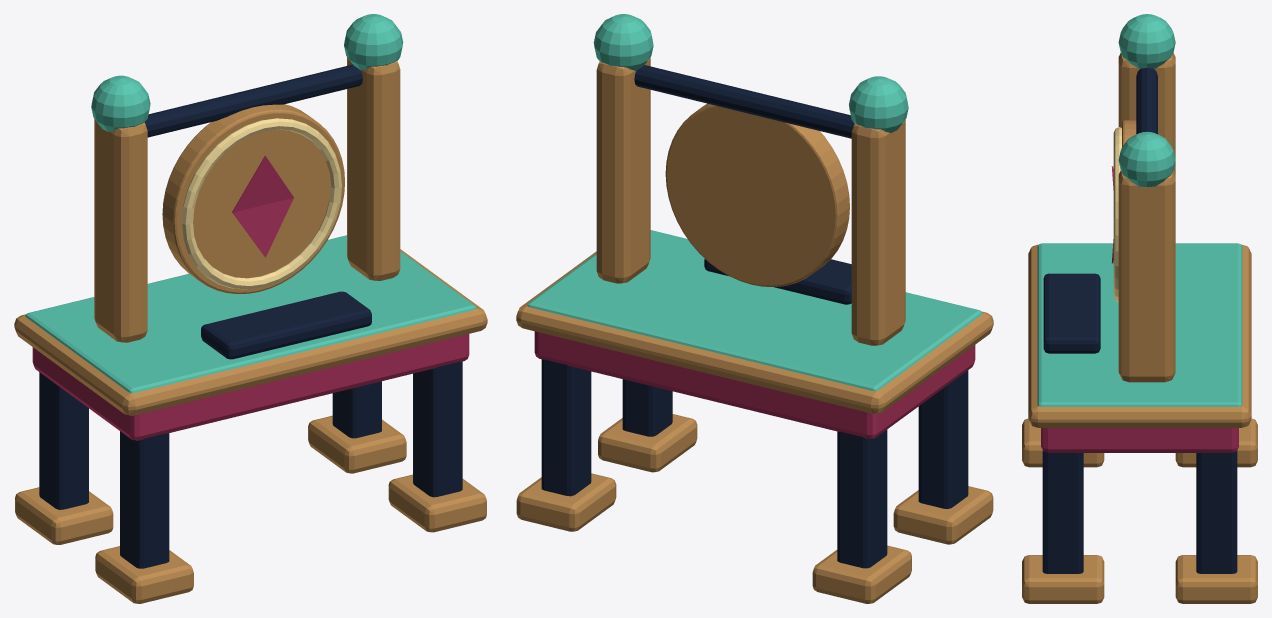
File: CoinFlip.fbx
3 views of the same model, side by side, from view 1: azimuth 30°, elevation 25°; view 2: azimuth 150°, elevation 25°; view 3: azimuth 270°, elevation 25° (orthographic). The views are drawn at different scales.
Visible parts, largest first — view 1: CoinFlip.Mesh, CoinFlip.Coin.Mesh; view 2: CoinFlip.Mesh, CoinFlip.Coin.Mesh; view 3: CoinFlip.Mesh, CoinFlip.Coin.Mesh.
Boxes of the visible parts, x1,y1,x2,y2 form: CoinFlip.Mesh: [14, 14, 487, 603]; CoinFlip.Coin.Mesh: [162, 104, 344, 293]; CoinFlip.Mesh: [516, 14, 993, 603]; CoinFlip.Coin.Mesh: [665, 103, 849, 286]; CoinFlip.Mesh: [1022, 14, 1257, 603]; CoinFlip.Coin.Mesh: [1111, 120, 1136, 301].
Bounding box in the file's own units: 225 × 277 × 132.
